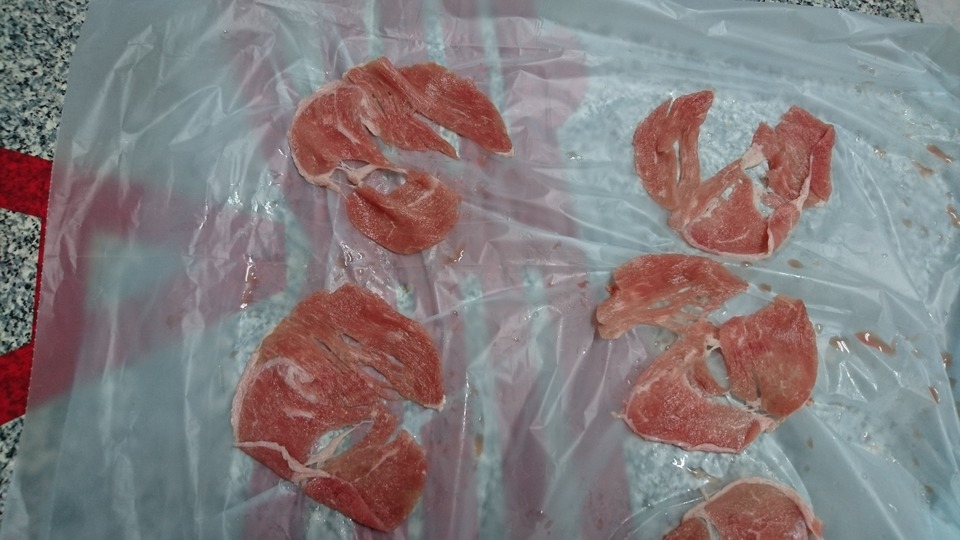restructured meat: (227, 269, 444, 528), (594, 262, 847, 456), (292, 54, 506, 269), (613, 85, 832, 259), (669, 489, 841, 540)
